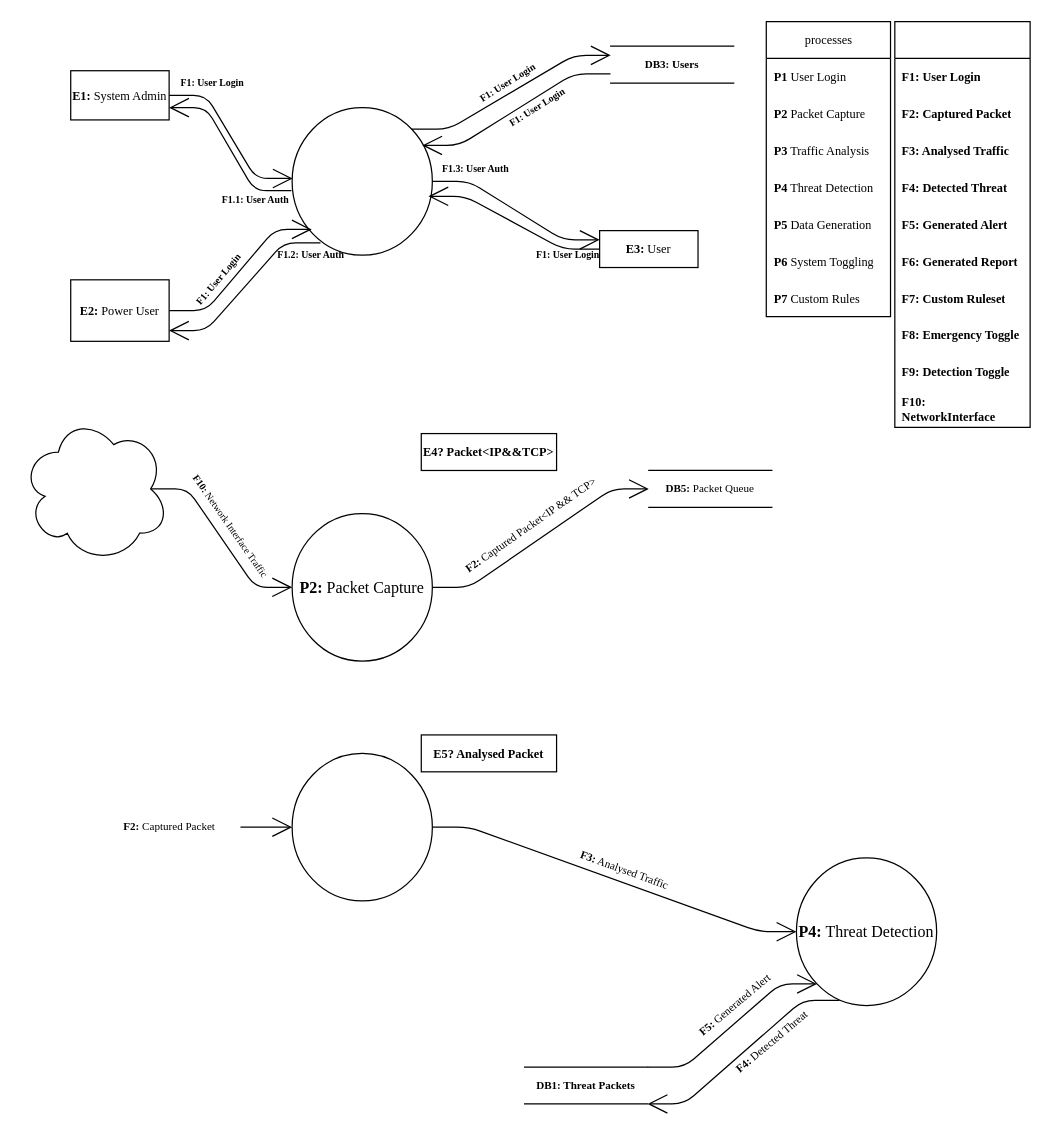
Some shapes in this 1052 by 1145 pixel diagram are drawn without their labels. The shapes that lost their labels are listed below. From the top down, each one's box as (x1, y1, x2, y2) in pixels, then its label:
(291, 106, 432, 255): P1 : User Login
(894, 20, 1030, 427): flows
(20, 414, 169, 563): Machine Network Interface
(291, 752, 432, 901): P3: Traffic Analysis
